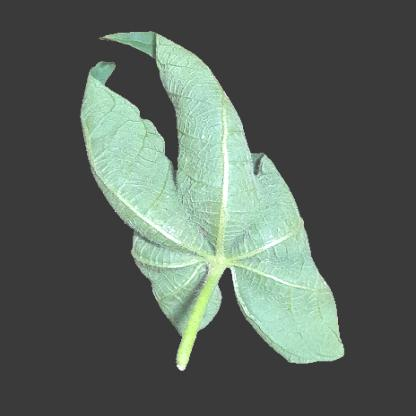curl_stage2: (151, 173, 279, 273), (258, 256, 312, 331), (98, 119, 152, 181), (165, 268, 221, 323), (180, 71, 216, 155), (279, 319, 336, 359), (210, 108, 243, 170), (125, 178, 155, 228)
